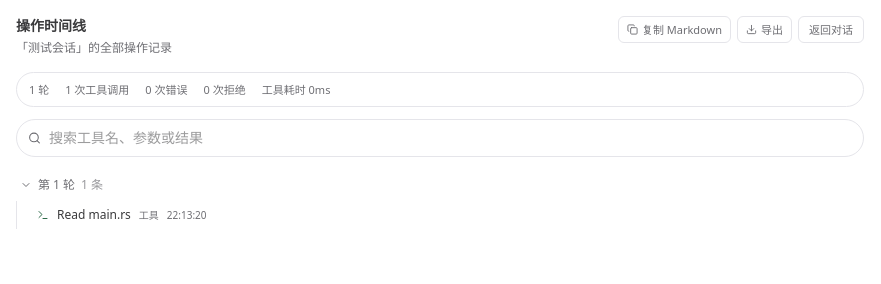
操作时间线 › 有详情的条目可展开查看
The width and height of the screenshot is (881, 284).
Check: the text "main.rs\"" is not shown
Click the text "Read main.rs".
click(94, 215)  # box [57,207,131,223]
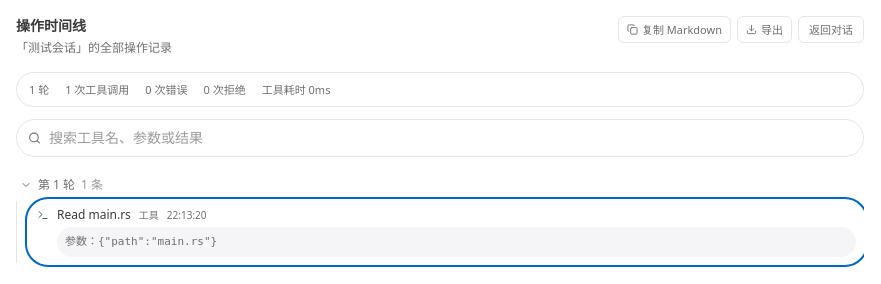
Check: the text "参数：{\"path\":\"main.rs\"}" is shown, box [57,227,856,257]
